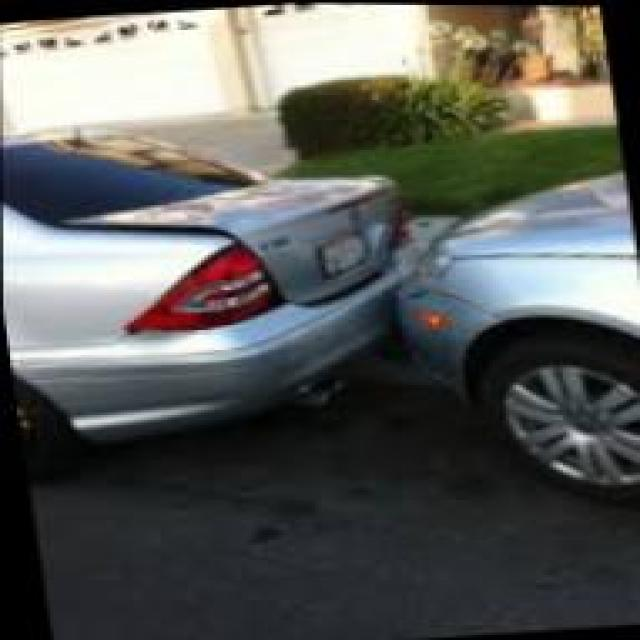Dickey: (60, 182, 403, 310)
